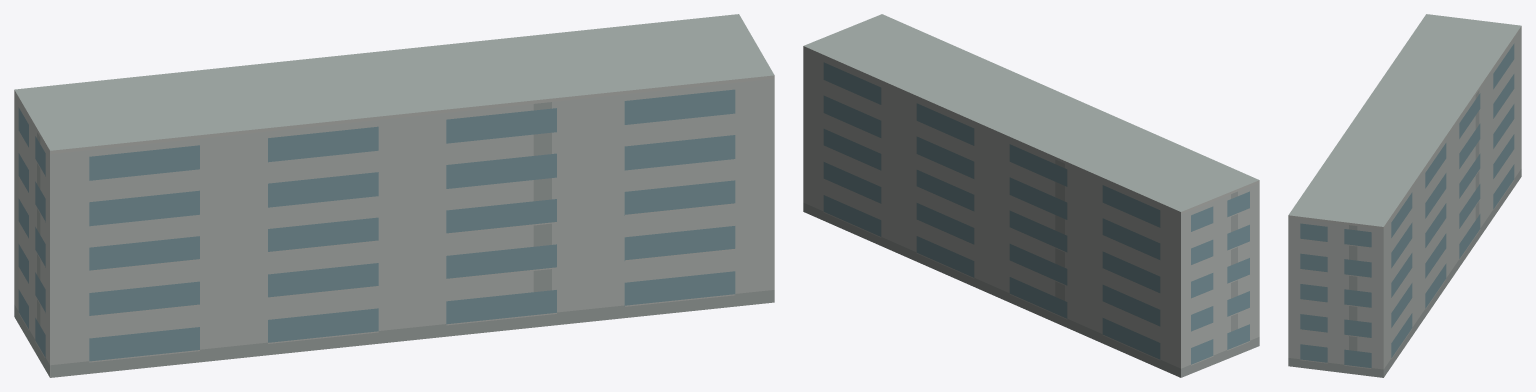
The model's file is residential-5f176fc3-769f-42eb-abca-ef4d387d3110.glb.
3 renders of one model, left to right at view 1: azimuth 30°, elevation 25°; view 2: azimuth 150°, elevation 25°; view 3: azimuth 270°, elevation 25°, orthographic. The views are drawn at different scales.
Visible parts, largest first — view 1: residential-5f176fc3-769f-42eb-abca-ef4d387d3110.tmp; view 2: residential-5f176fc3-769f-42eb-abca-ef4d387d3110.tmp; view 3: residential-5f176fc3-769f-42eb-abca-ef4d387d3110.tmp.
Boxes of the visible parts, x1,y1,x2,y2 form: residential-5f176fc3-769f-42eb-abca-ef4d387d3110.tmp: (14, 14, 774, 377); residential-5f176fc3-769f-42eb-abca-ef4d387d3110.tmp: (803, 14, 1259, 377); residential-5f176fc3-769f-42eb-abca-ef4d387d3110.tmp: (1288, 14, 1521, 377).
Bounding box in the file's own units: 48.43 × 16 × 22.43.
